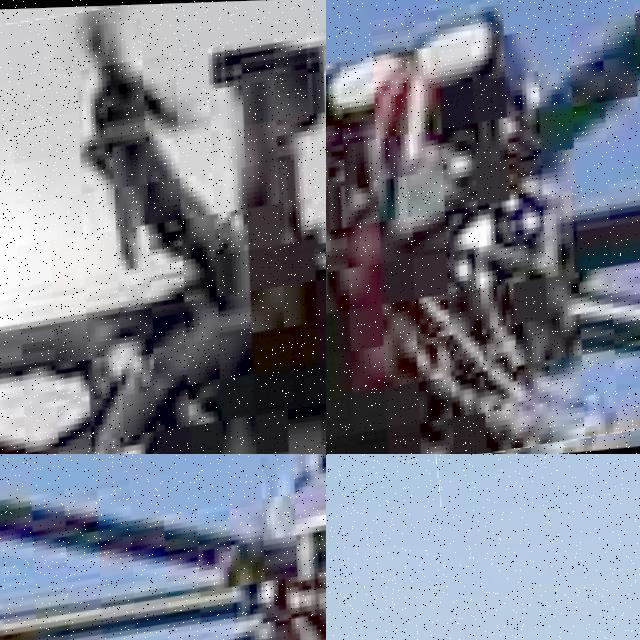drone: (0, 0, 326, 454), (326, 0, 640, 454), (0, 454, 326, 640), (436, 454, 640, 640)
